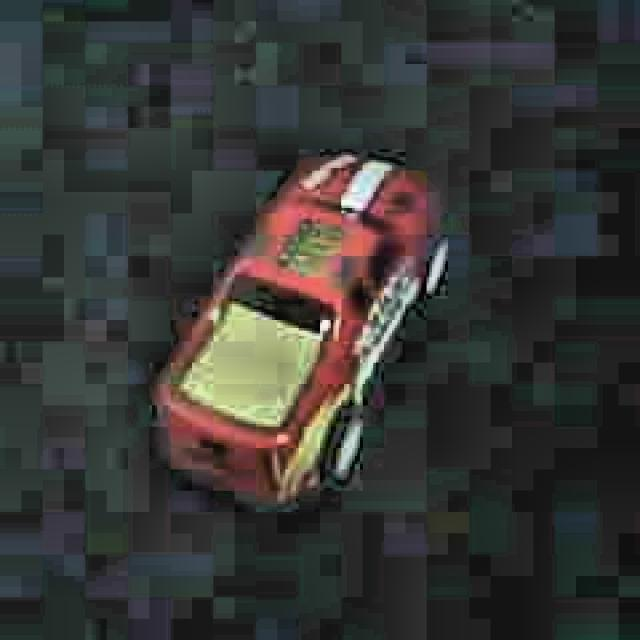car: (151, 137, 449, 512)
